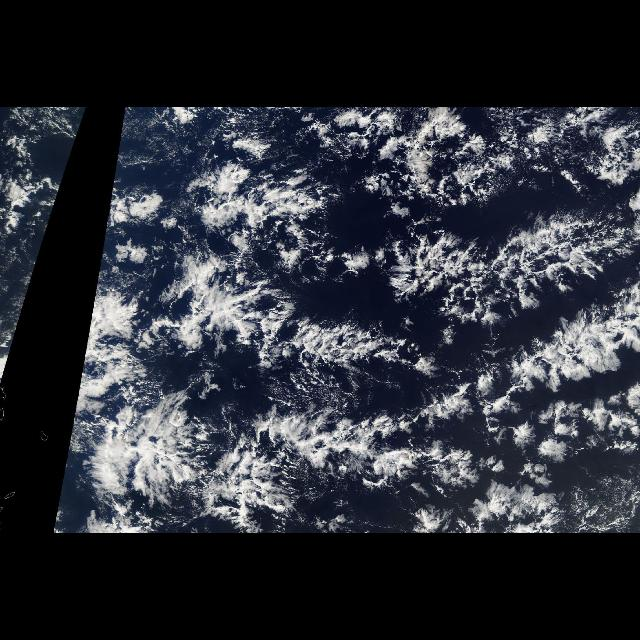Fish: (128, 167, 640, 506)
Gravel: (52, 110, 638, 532), (2, 110, 86, 384)
